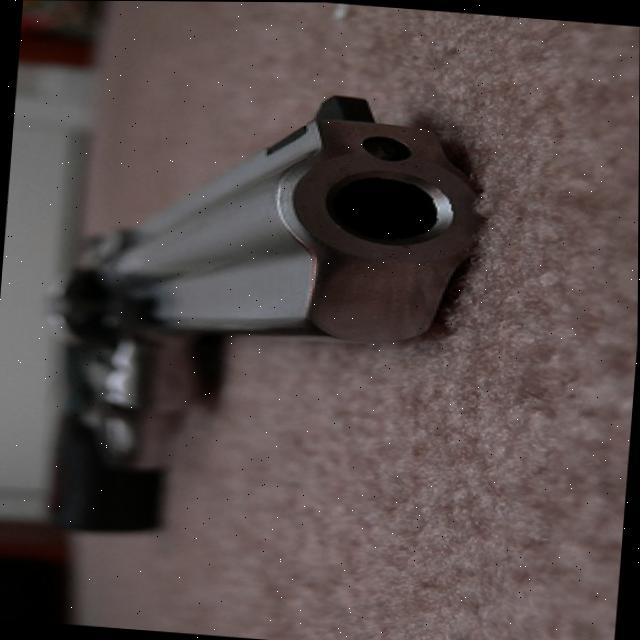pistol: (36, 74, 490, 562)
